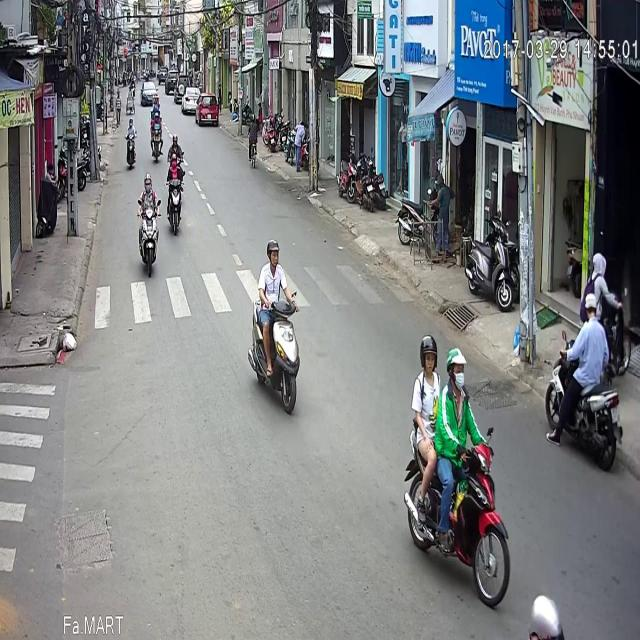bicycle: (246, 54, 258, 110)
car: (196, 34, 218, 68)
motorcycle: (403, 276, 510, 548), (545, 234, 623, 412), (247, 182, 300, 358), (136, 114, 161, 220), (165, 94, 185, 176), (148, 52, 162, 105), (124, 58, 136, 111)
